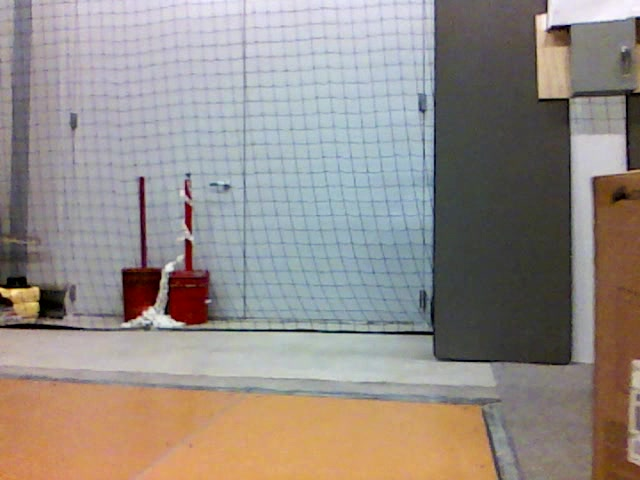box: (594, 168, 640, 480)
